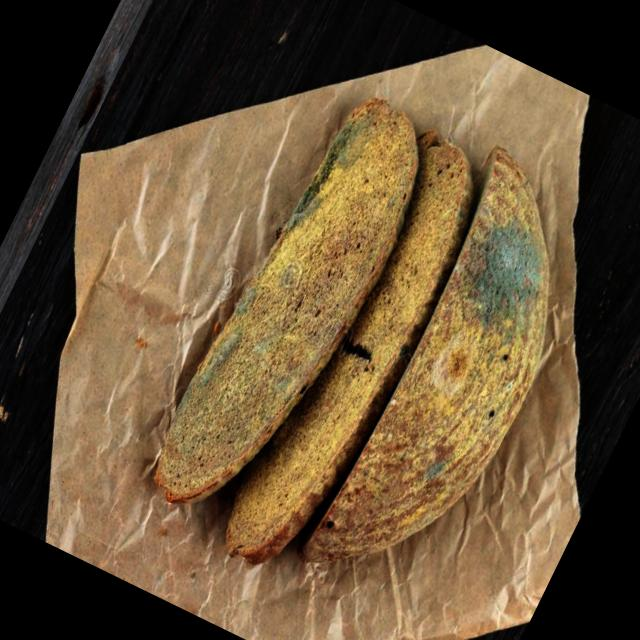Food waste: (224, 148, 470, 565), (163, 101, 420, 487), (304, 158, 546, 553)
Paper bag: (50, 42, 588, 640)
